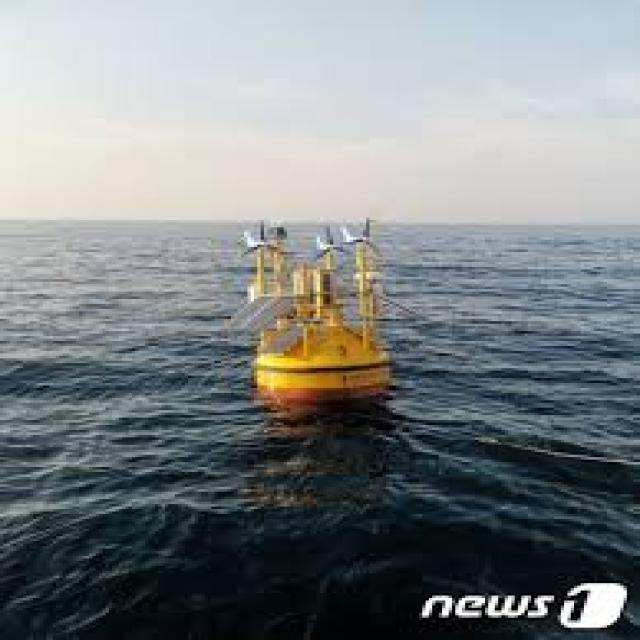2.5 sepcial mark: (219, 202, 423, 411)
